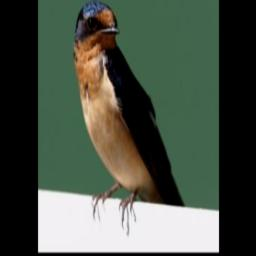Swallow: (75, 0, 185, 228)
